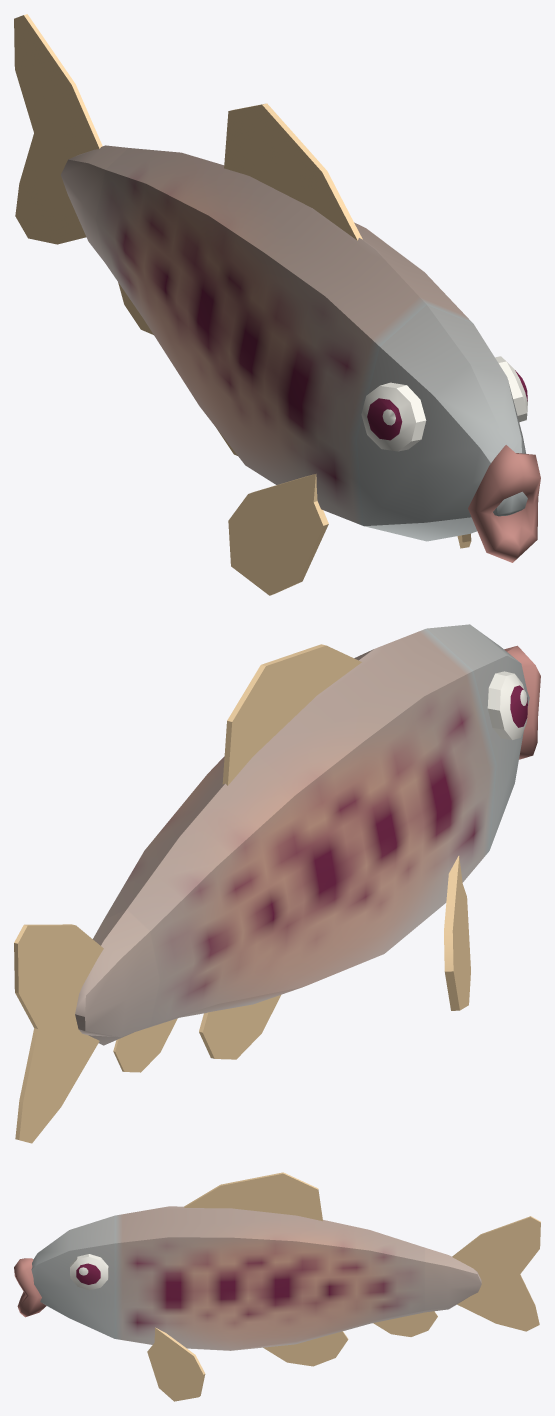
3 views of the same model, one above another, from view 1: azimuth 30°, elevation 25°; view 2: azimuth 150°, elevation 25°; view 3: azimuth 270°, elevation 25° (orthographic). The views are drawn at different scales.
Visible parts, largest first — view 1: Fish_CherrySalmon; view 2: Fish_CherrySalmon; view 3: Fish_CherrySalmon.
Part boxes in pixels (x1,y1,x2,y2): Fish_CherrySalmon: [14, 14, 540, 595]; Fish_CherrySalmon: [14, 624, 540, 1143]; Fish_CherrySalmon: [14, 1172, 540, 1401].
Size of the model in its own units: 14.22 by 23.2 by 54.37.
